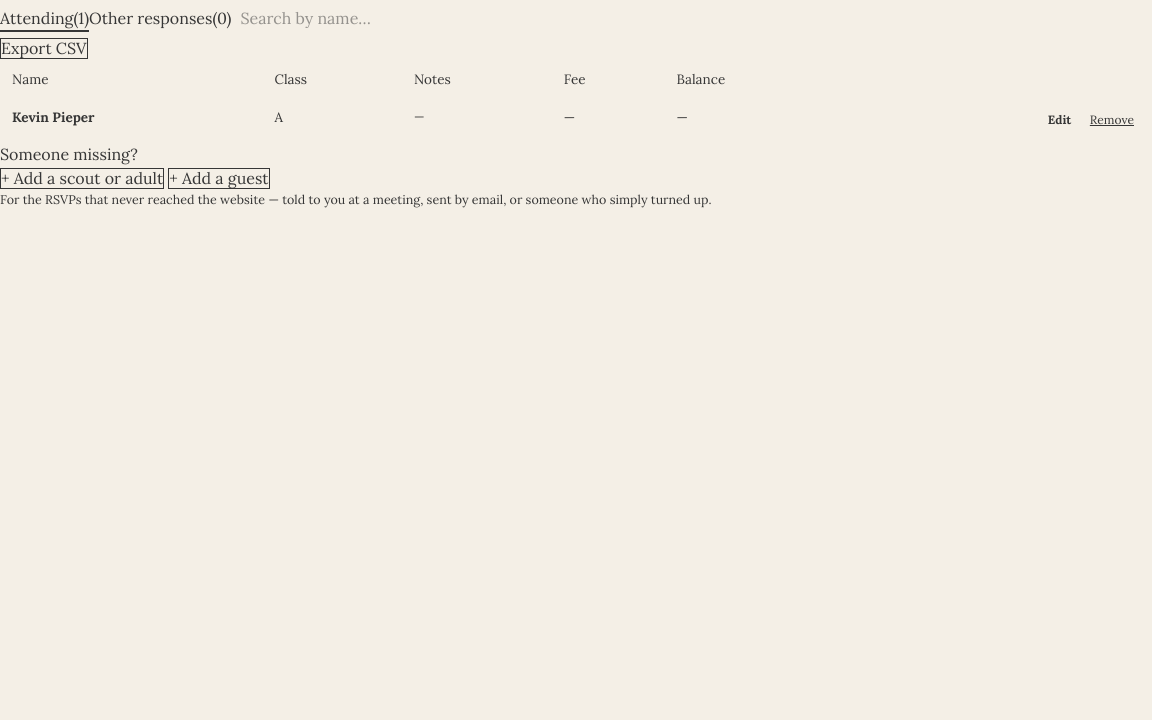
Scenario: Roster grid — one column per group set, feature columns only when used › EditDialog_IsDataDriven_NoTransportationWithoutCarSets_NoJobsWithoutSlots
Click the button "Edit": (1060, 120) x1=1039 y1=107 x2=1080 y2=133
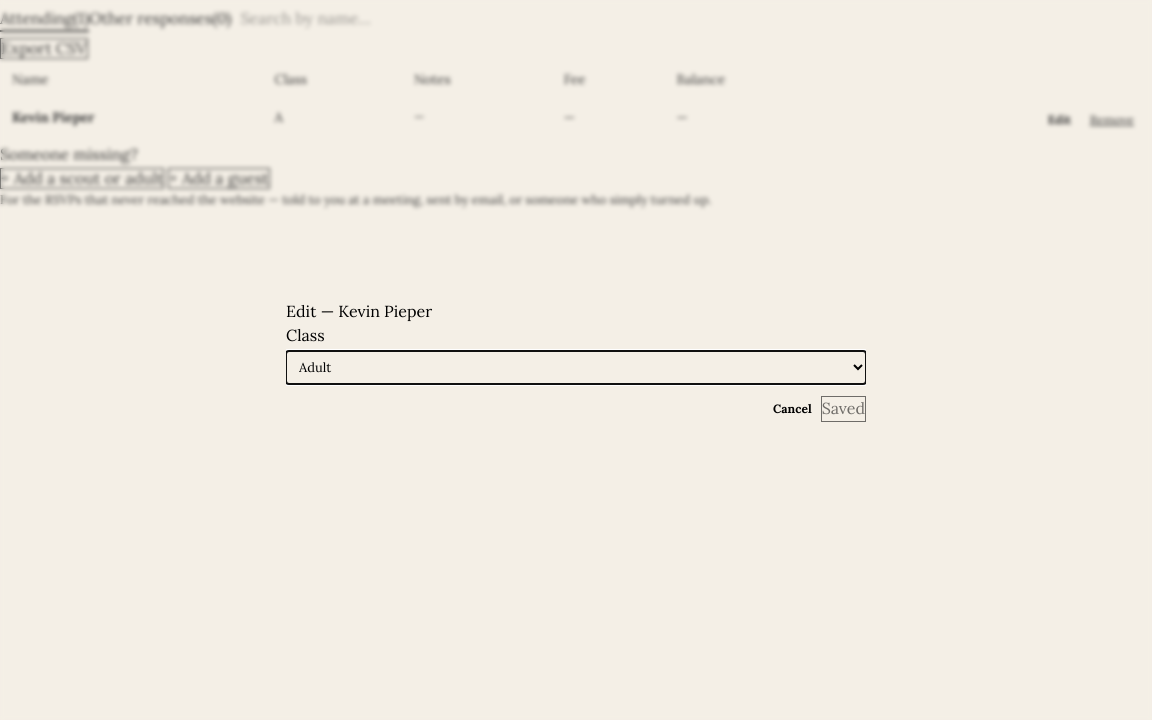
Check: the dropdown labelled "Class" is shown, box x1=286 y1=350 x2=866 y2=384
